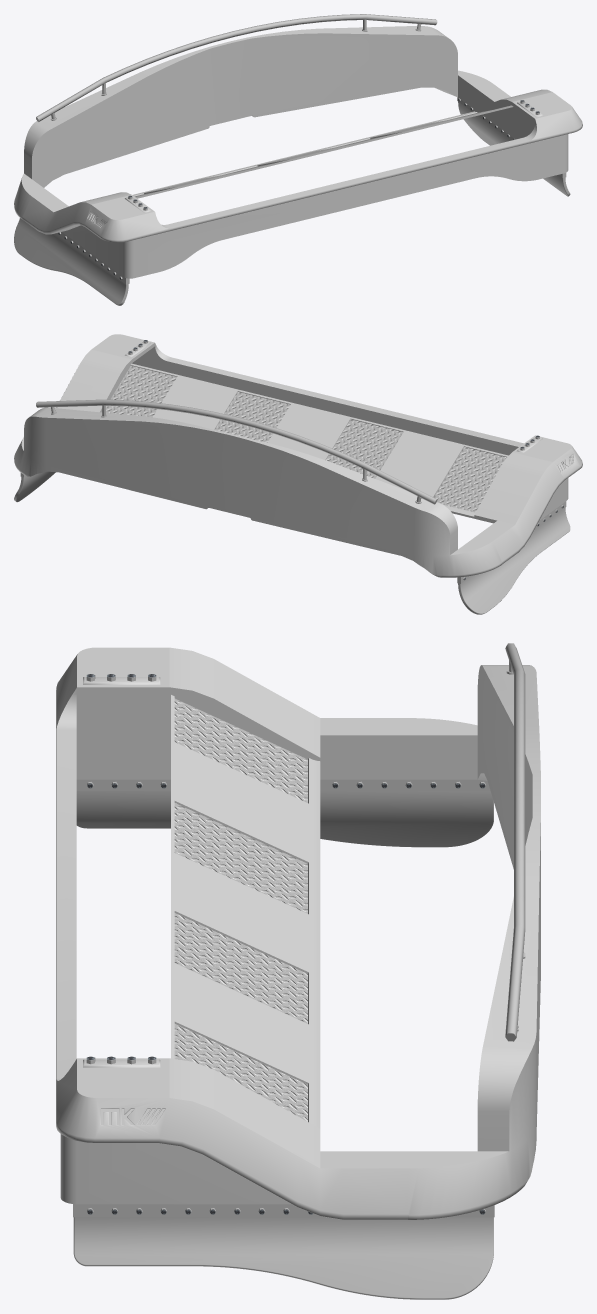
The model's file is Main Car.dae.
3 views of the same model, one above another, from view 1: azimuth 30°, elevation 25°; view 2: azimuth 150°, elevation 25°; view 3: azimuth 270°, elevation 25° (orthographic). The views are drawn at different scales.
Visible parts, largest first — view 1: Shell (×5); view 2: Shell (×8); view 3: Shell (×10).
Boxes of the visible parts, left/top/right/bottom form: Shell (×5): left=14, top=14, right=582, bottom=305; Shell (×8): left=14, top=334, right=582, bottom=614; Shell (×10): left=56, top=643, right=540, bottom=1299.
Size of the model in its own units: 107 by 46.71 by 32.56.
Materials: 5 (2 with a texture image).
